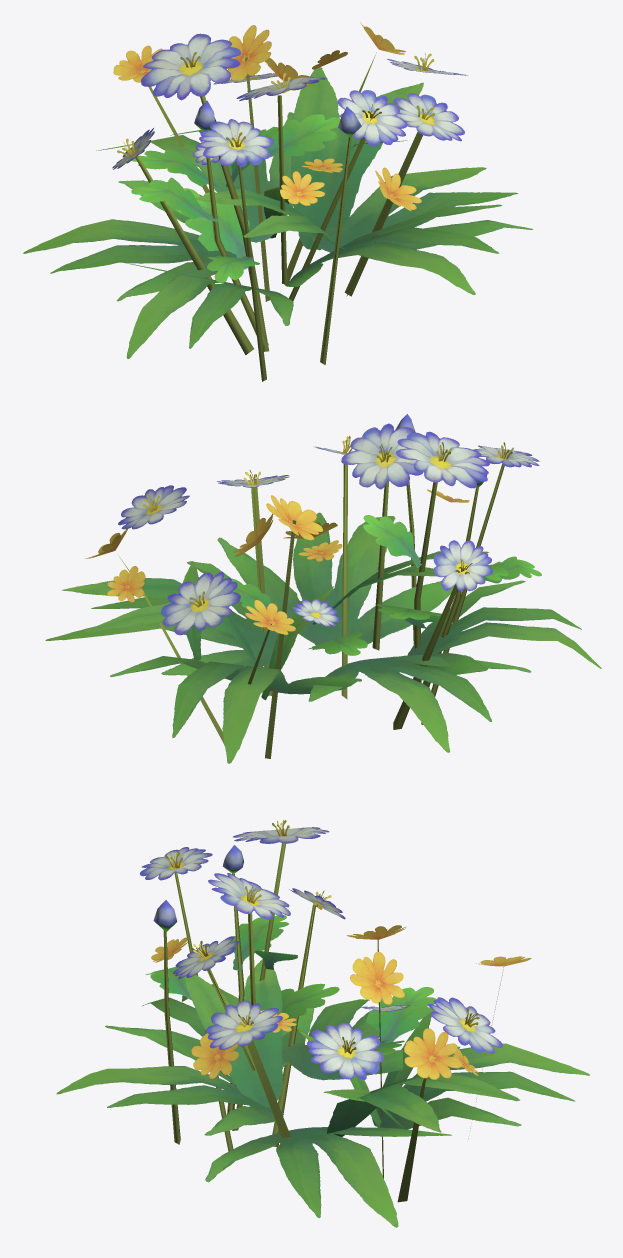
Rendered from Area_MdProps_Flower09_Vo.fbx.
3 views of the same model, one above another, from view 1: azimuth 30°, elevation 25°; view 2: azimuth 150°, elevation 25°; view 3: azimuth 270°, elevation 25° (orthographic). The views are drawn at different scales.
Parts seen in each view (by area): view 1: Area_MdProps_Flower09_Vo; view 2: Area_MdProps_Flower09_Vo; view 3: Area_MdProps_Flower09_Vo.
Part boxes in pixels (left/top/right/bottom): Area_MdProps_Flower09_Vo: left=23, top=22, right=532, bottom=381; Area_MdProps_Flower09_Vo: left=45, top=414, right=601, bottom=763; Area_MdProps_Flower09_Vo: left=56, top=820, right=589, bottom=1227.
Size of the model in its own units: 1.12 by 0.6582 by 1.08.
Materials: 1 (1 with a texture image).
